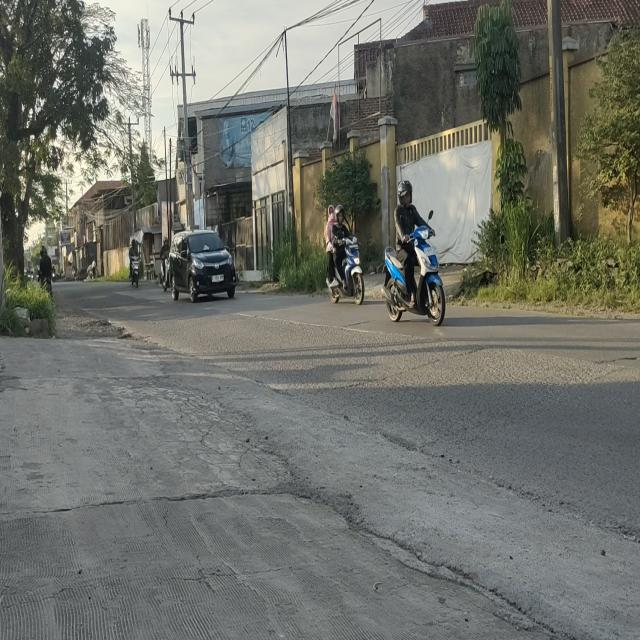helmet: (398, 180, 413, 207), (336, 205, 344, 223)
no-helmet: (326, 205, 334, 221)
